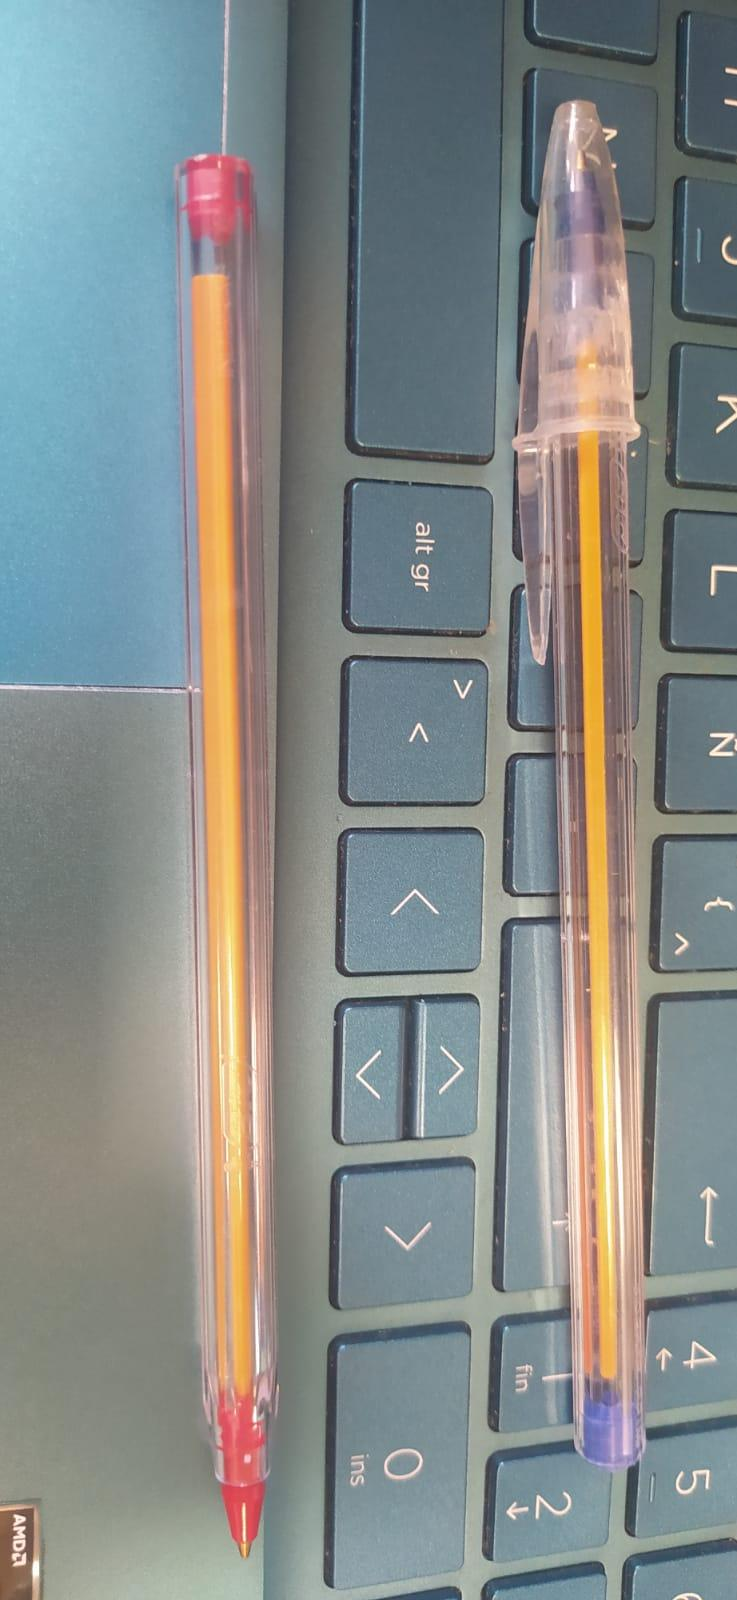pen: (517, 91, 645, 1472), (166, 141, 280, 1568)
